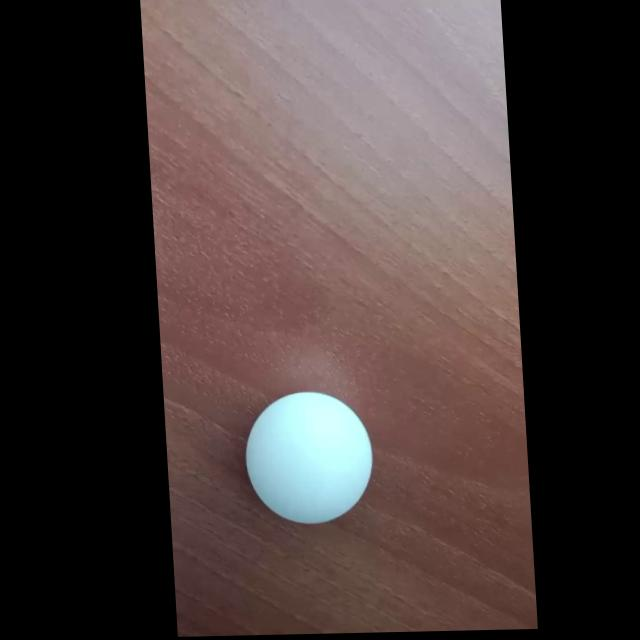white ball: (241, 389, 376, 526)
